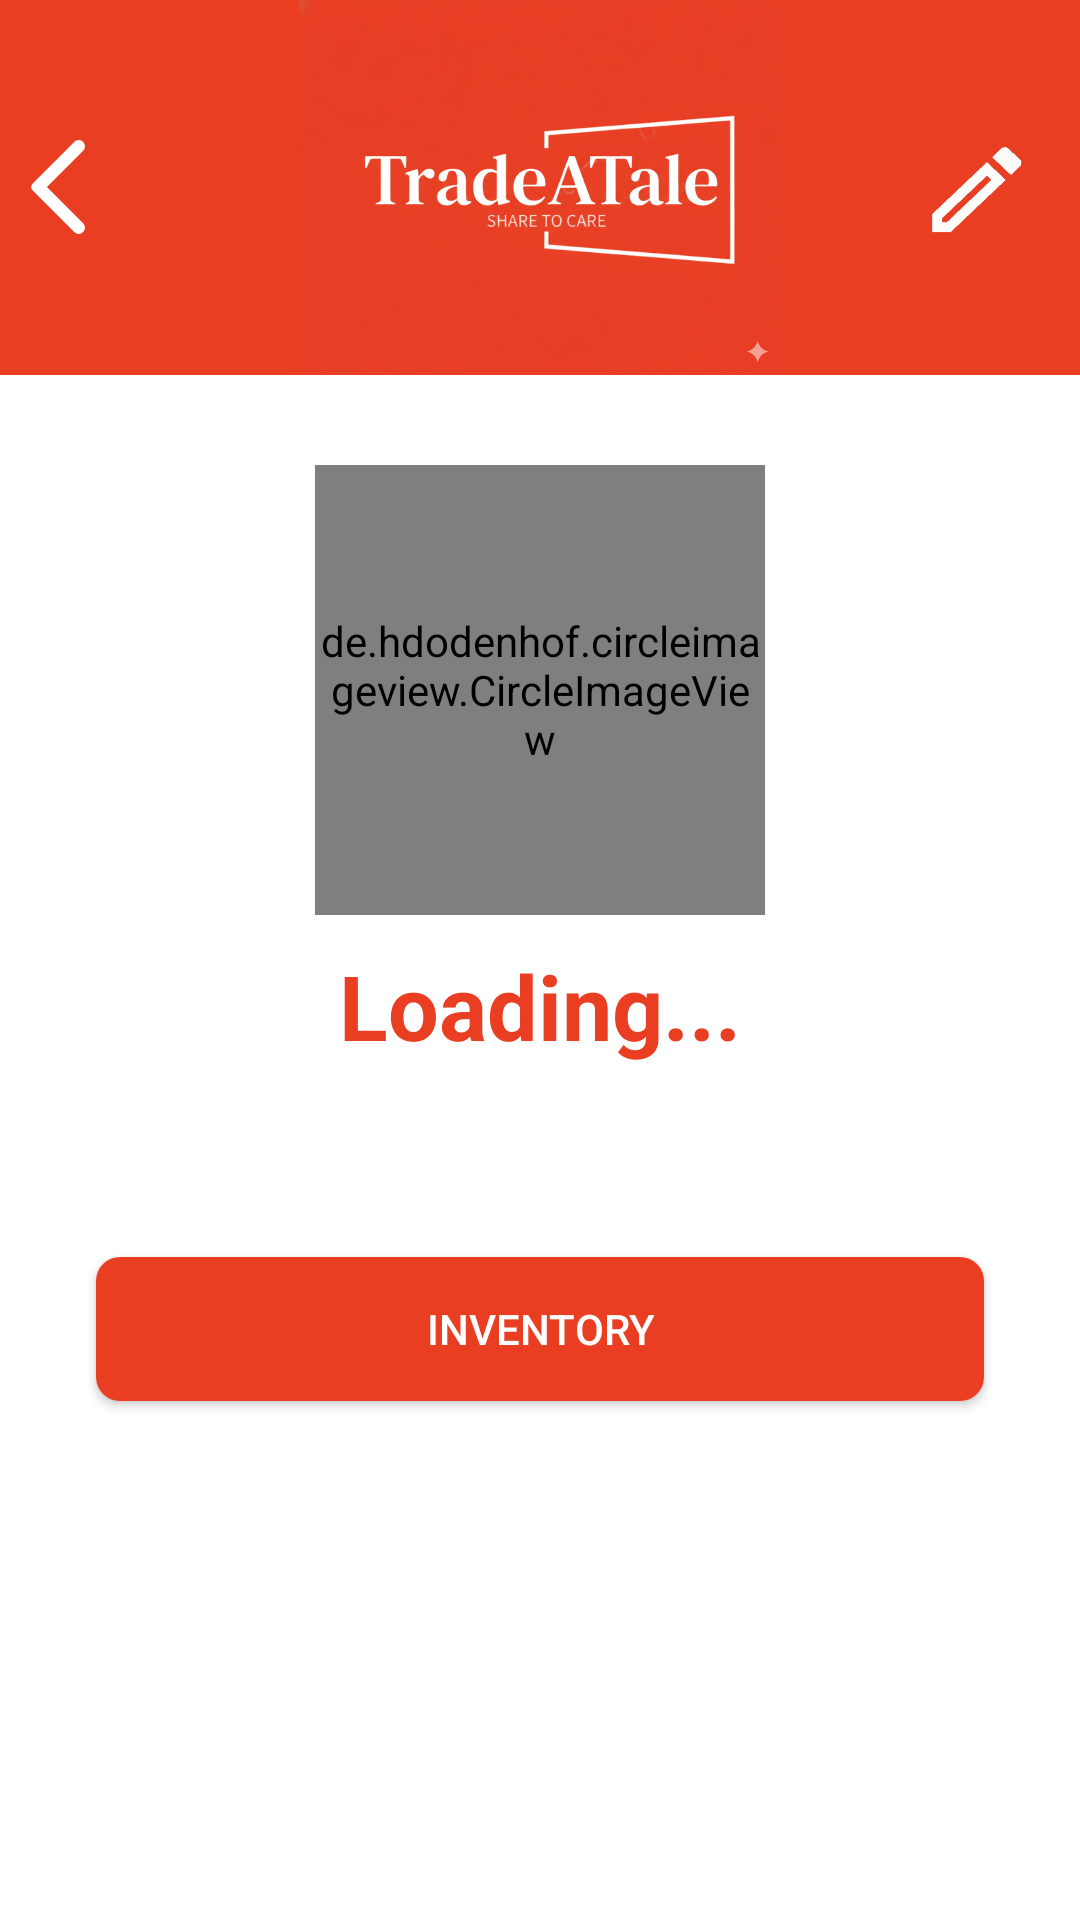

Locate icon controls on the screen. Image size 1080x1920, boxes as [x1=x1, y1=y1, x2=x2, y2=y2].
Back: [x1=31, y1=140, x2=85, y2=234]
Edit Profile: [x1=932, y1=147, x2=1022, y2=232]
